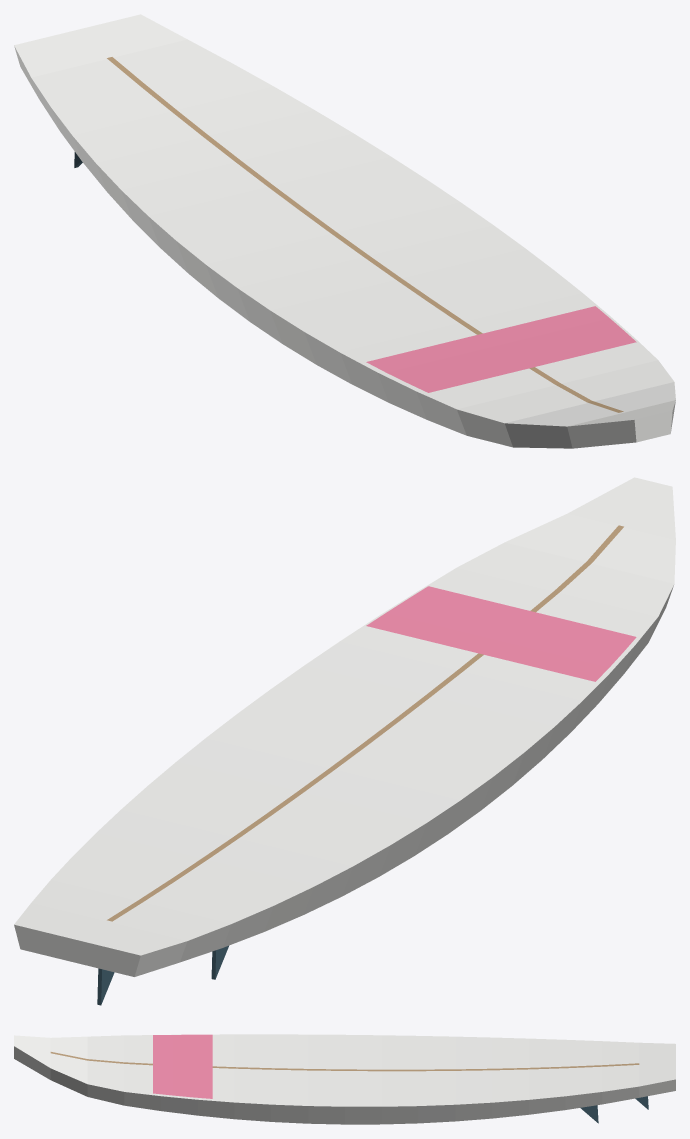
The model's file is BoardFun.fbx.
The picture shows the model from 3 angles, top to bottom: view 1: azimuth 30°, elevation 25°; view 2: azimuth 150°, elevation 25°; view 3: azimuth 270°, elevation 25°; orthographic projection. The views are drawn at different scales.
Visible parts, largest first — view 1: BoardFun; view 2: BoardFun; view 3: BoardFun.
Part boxes in pixels (x1,y1,x2,y2): BoardFun: (14, 14, 675, 448); BoardFun: (14, 477, 675, 1005); BoardFun: (14, 1034, 675, 1124).
Bounding box in the file's own units: 0.54 × 0.2398 × 2.1.
